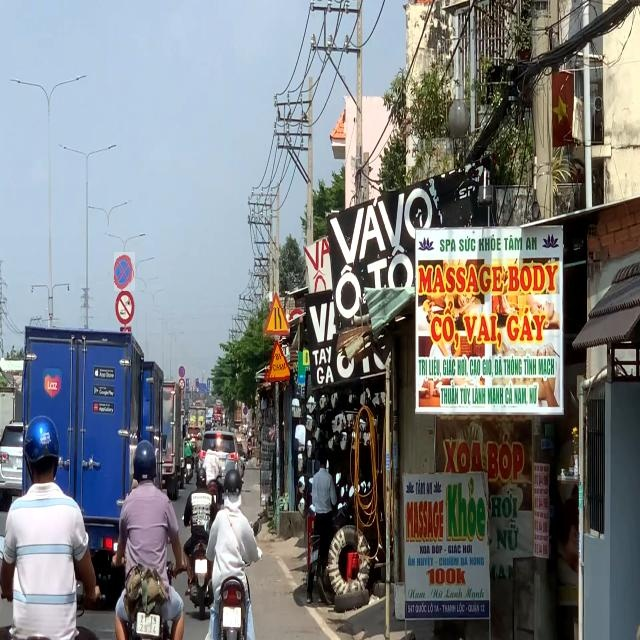bien_nguy_hiem: (263, 292, 290, 338), (264, 339, 290, 382), (114, 252, 135, 291)
